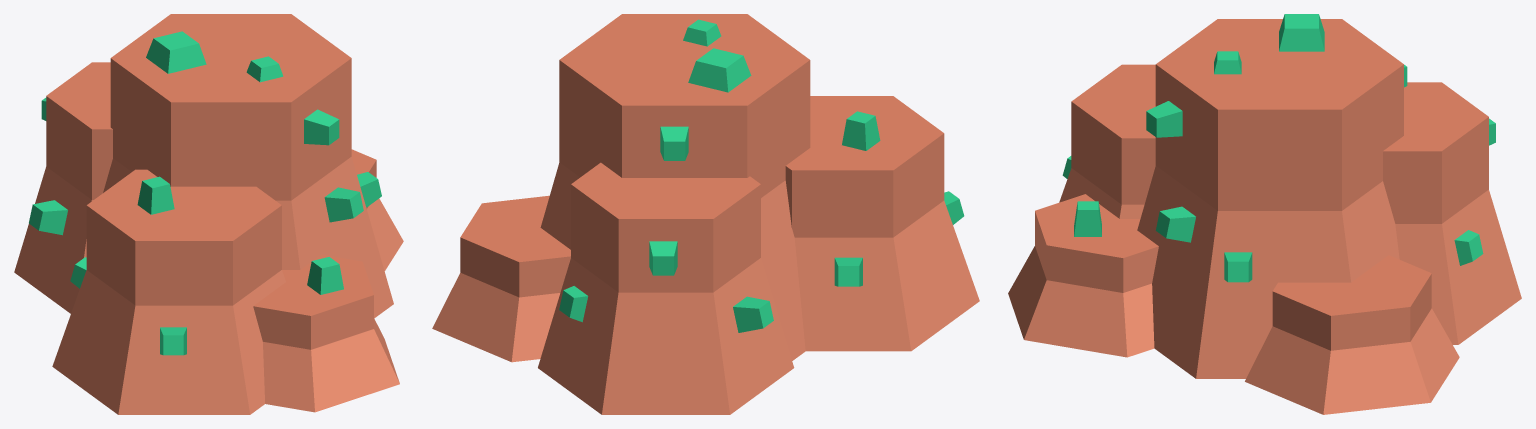
Rendered from k-rock-crystals-large-a.glb.
The picture shows the model from 3 angles, left to right: view 1: azimuth 30°, elevation 25°; view 2: azimuth 150°, elevation 25°; view 3: azimuth 270°, elevation 25°; orthographic projection. The views are drawn at different scales.
Parts seen in each view (by area): view 1: rock_crystalsLargeA; view 2: rock_crystalsLargeA; view 3: rock_crystalsLargeA.
Boxes of the visible parts, box(x1,y1,x2,y2) form: rock_crystalsLargeA: box(14, 14, 403, 414); rock_crystalsLargeA: box(432, 14, 979, 414); rock_crystalsLargeA: box(1008, 14, 1521, 414).
Bounding box in the file's own units: 0.8339 × 0.541 × 0.9193.
